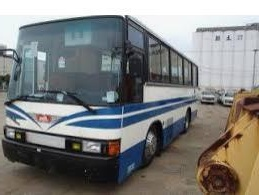bus: (7, 13, 202, 185)
